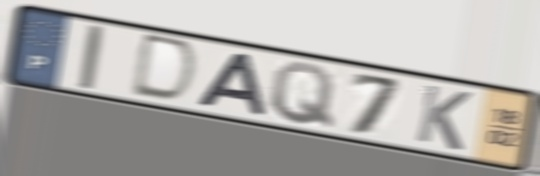7: (348, 70, 405, 139)
A: (192, 51, 270, 120)
D: (126, 31, 201, 106)
I: (76, 22, 107, 92)
K: (412, 82, 475, 154)
Q: (268, 60, 337, 131)
